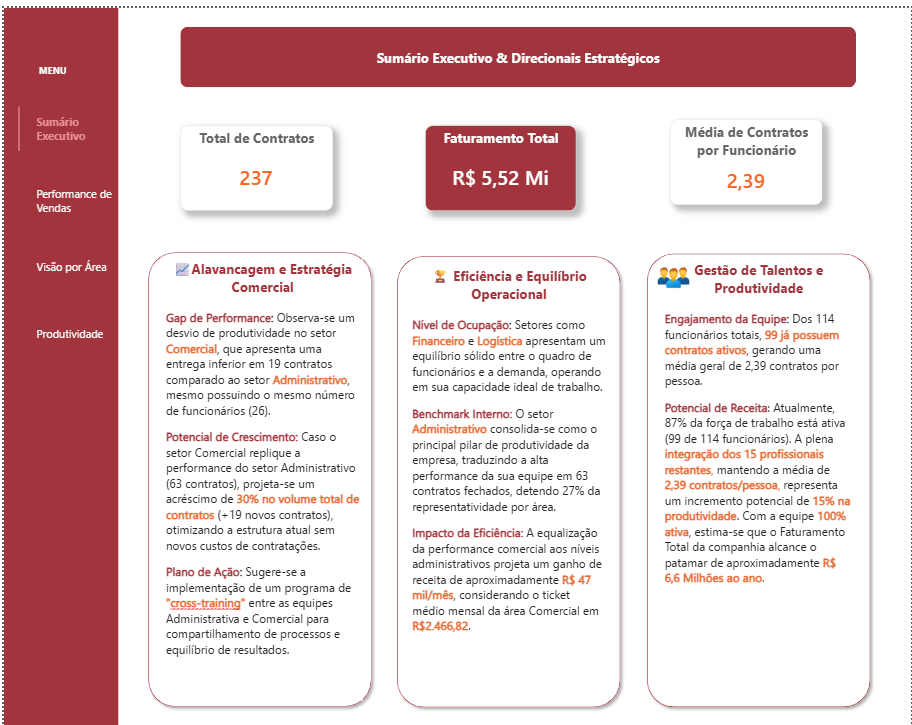

The dashboard page shown, as its layout file describes it:
{"tool":"powerbi","page":{"name":"Sumário Executivo","canvas":[1450,1150],"ordinal":0},"visuals":[{"type":"shape","box":[0,0,182.9,1150],"z":0},{"type":"cardVisual","title":"Média de Contratos por Funcionário  ","fields":{"Data":["_TodasMedidas.Taxa de Produtividade (Contratos de Funcionarios)"]},"box":[1065.7,177.1,242.9,137.1],"z":1000},{"type":"cardVisual","title":"Total de Contratos ","fields":{"Data":["_TodasMedidas.Total Contratos Fechados"]},"box":[281.2,188.8,243.8,136.2],"z":2000},{"type":"cardVisual","title":"Faturamento Total ","fields":{"Data":["_TodasMedidas.Soma Valor Total Contratos - faturamento"]},"box":[674.6,187.1,241.4,137.1],"z":3000},{"type":"shape","box":[281.4,30,1081.4,97.1],"z":4000},{"type":"shape","box":[222.5,382.5,375,745],"z":5000},{"type":"textbox","title":"📈Alavancagem e Estratégia Comercial ","box":[253.8,401.2,320,706.2],"z":6000},{"type":"shape","box":[620,387.5,375,740],"z":7000},{"type":"shape","box":[1020,383.8,375,743.8],"z":8000},{"type":"textbox","title":"🏆 Eficiência e Equilíbrio Operacional  ","box":[647.5,413.8,320,668.8],"z":9000},{"type":"textbox","title":"Gestão de Talentos e Produtividade  ","box":[1051.2,403.8,311.2,658.8],"z":10000},{"type":"shape","box":[55.7,78.6,100,44.3],"z":11000},{"type":"actionButton","box":[48.6,161.4,131.4,62.9],"z":12000},{"type":"image","box":[1045.7,401.4,50,55.7],"z":13000},{"type":"shape","box":[14.3,157.7,20,70],"z":14000},{"type":"actionButton","box":[48.6,275.7,131.4,62.9],"z":15000},{"type":"actionButton","box":[47.1,382.9,131.4,62.9],"z":16000},{"type":"actionButton","box":[48.6,490,131.4,62.9],"z":17000}]}

Visuals, with their boxes on the page's 1450x1150 design canvas (x1, y1, x2, y2). These are canvas units, not pixel positions in the 912x725 screenshot, which may show the page scaled, cropped or inside an application window:
shape: 0, 0, 183, 1150
"Média de Contratos por Funcionário  " cardVisual: 1066, 177, 1309, 314
"Total de Contratos " cardVisual: 281, 189, 525, 325
"Faturamento Total " cardVisual: 675, 187, 916, 324
shape: 281, 30, 1363, 127
shape: 222, 382, 598, 1128
"📈Alavancagem e Estratégia Comercial " textbox: 254, 401, 574, 1107
shape: 620, 388, 995, 1128
shape: 1020, 384, 1395, 1128
"🏆 Eficiência e Equilíbrio Operacional  " textbox: 648, 414, 968, 1083
"Gestão de Talentos e Produtividade  " textbox: 1051, 404, 1362, 1063
shape: 56, 79, 156, 123
actionButton: 49, 161, 180, 224
image: 1046, 401, 1096, 457
shape: 14, 158, 34, 228
actionButton: 49, 276, 180, 339
actionButton: 47, 383, 178, 446
actionButton: 49, 490, 180, 553
